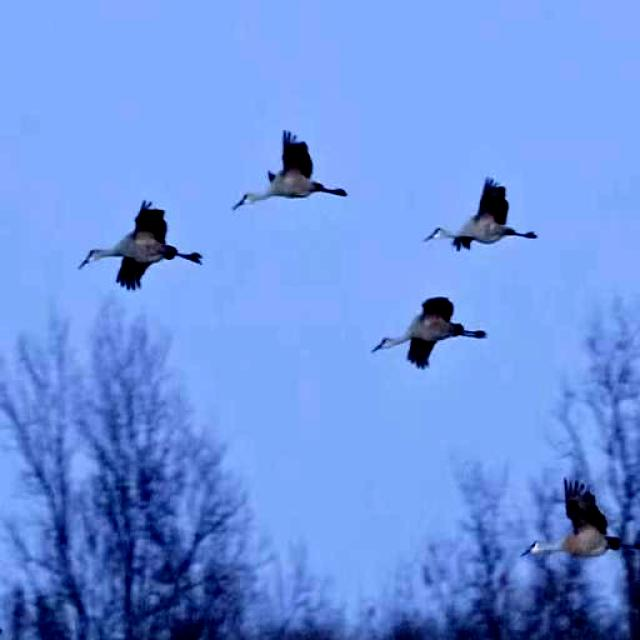airplane: (65, 181, 209, 318), (226, 104, 356, 222), (416, 162, 546, 268), (510, 475, 640, 580), (350, 282, 489, 374)
